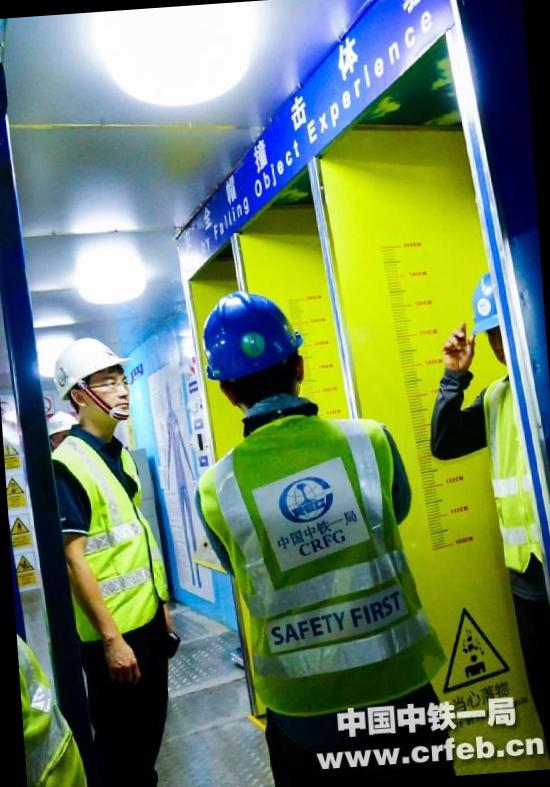Vest: (204, 404, 442, 730), (50, 427, 174, 648)
